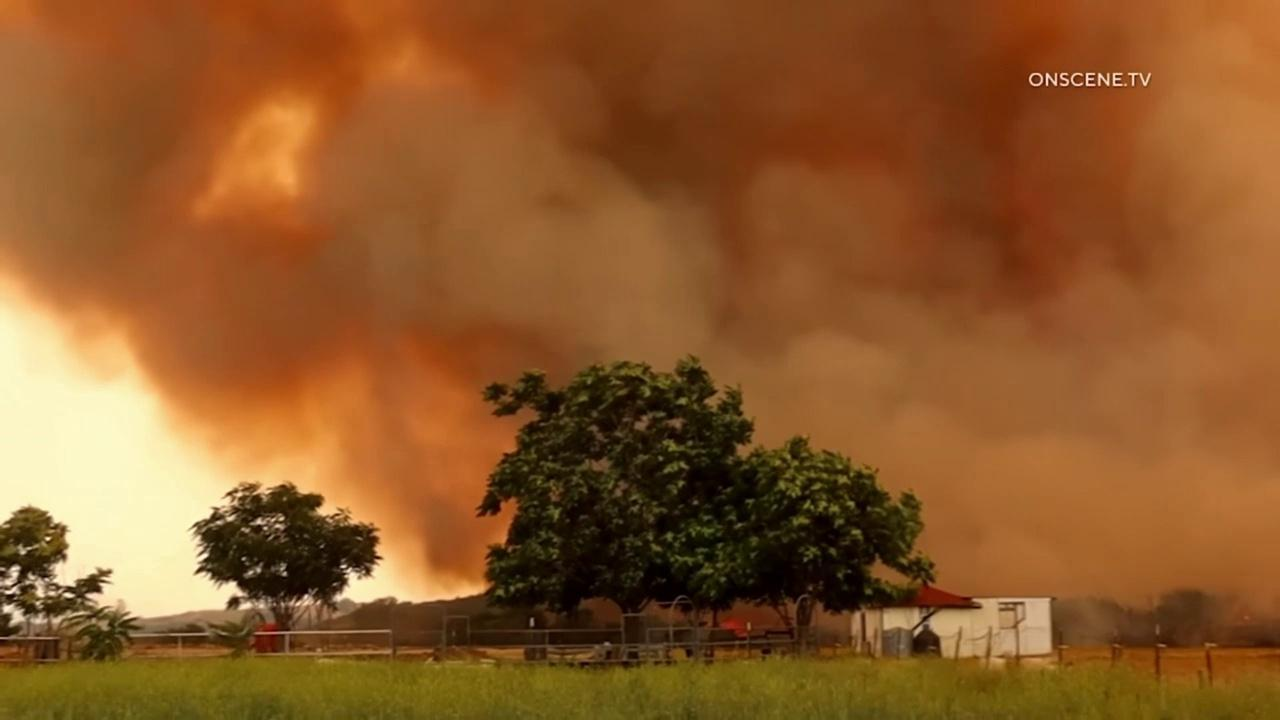fire: (719, 618, 746, 639), (1242, 615, 1250, 620)
smoke: (0, 0, 1280, 649)
